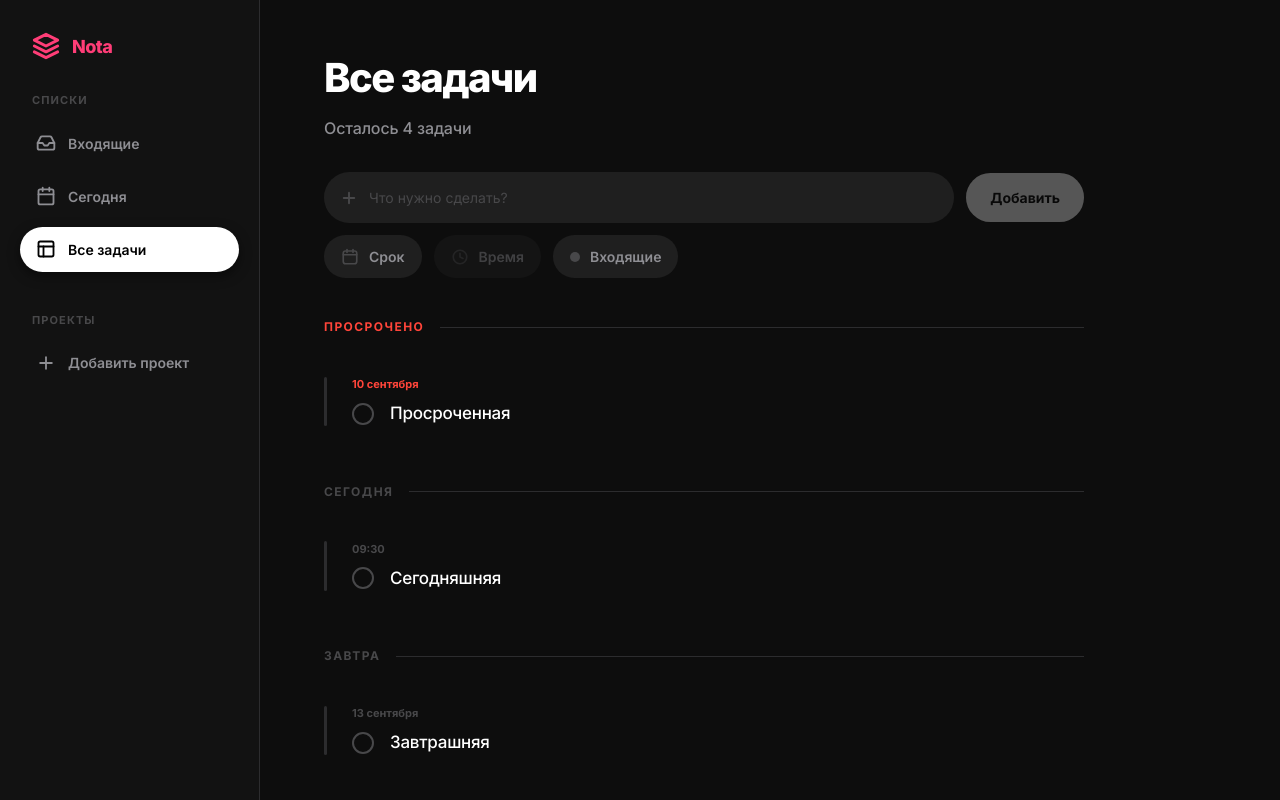
Test: раздел «Сегодня» › возврат к «Всем задачам» показывает список целиком
Expected: the button "Завтрашняя" is shown, [390,730,490,756]
Step 1. Click the button "Сегодня" → click(130, 196), box [20,174,239,218]
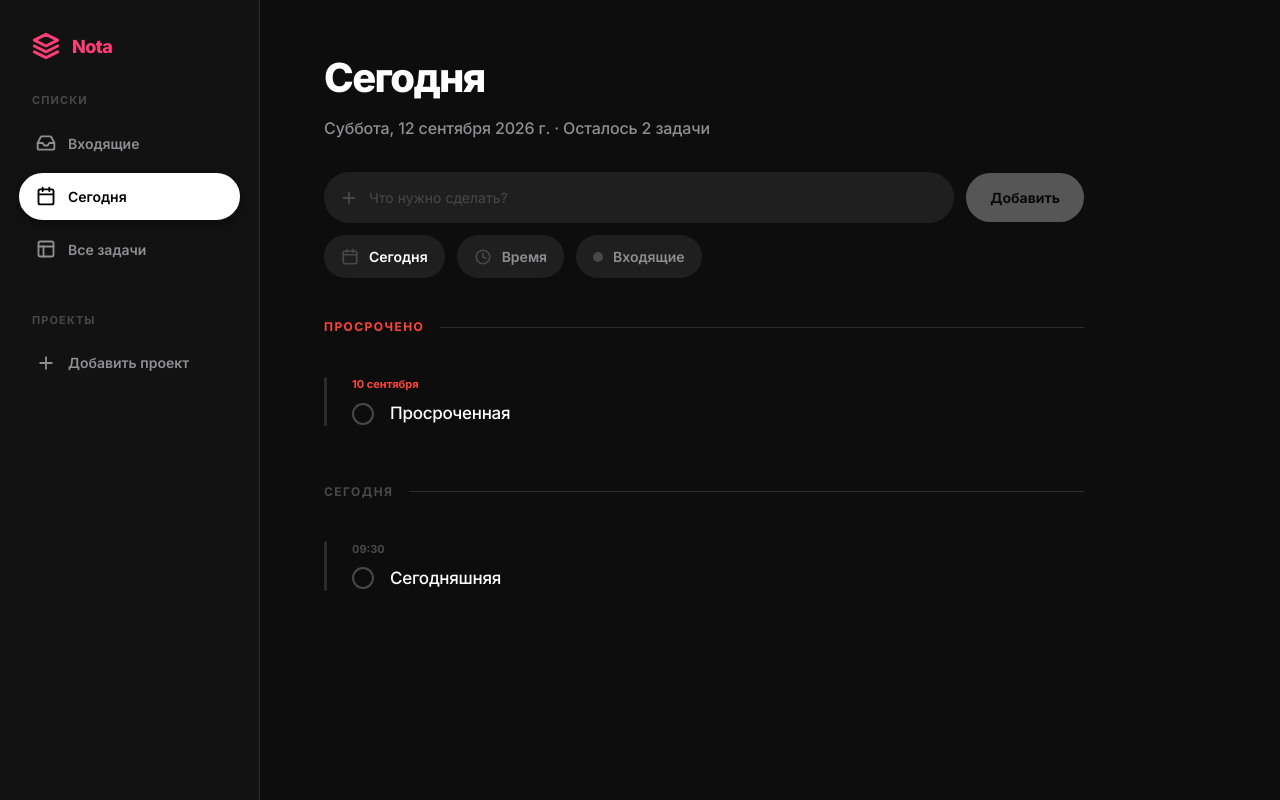
Step 2. Click the button "Все задачи" → click(130, 249), box [20,226,239,272]
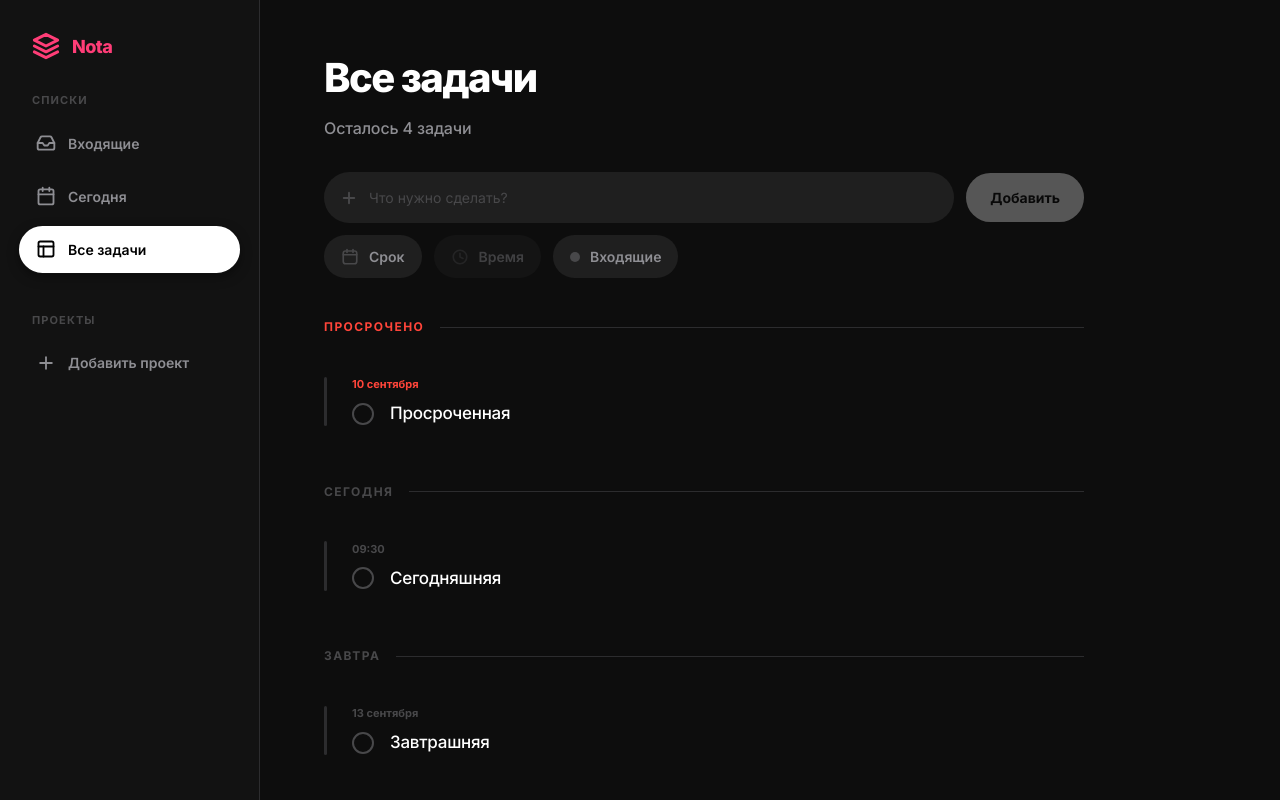
Expected: the heading "Все задачи" is shown, [324,53,536,102]
Expected: the text "Осталось 4 задачи" is shown, [324,118,472,138]
